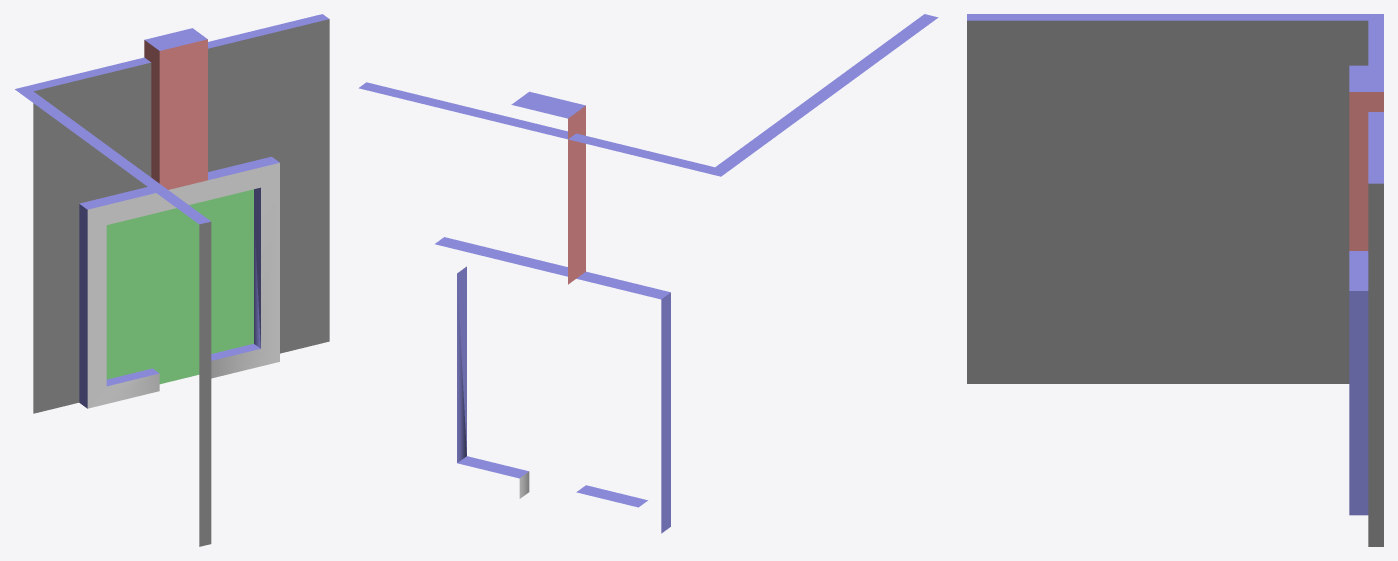
File: wall_deco_03.gltf
3 renders of one model, left to right at view 1: azimuth 30°, elevation 25°; view 2: azimuth 150°, elevation 25°; view 3: azimuth 270°, elevation 25°, orthographic. The views are drawn at different scales.
Parts seen in each view (by area): view 1: wall_deco_03; view 2: wall_deco_03; view 3: wall_deco_03.
Part boxes in pixels (box(x1,y1,x2,y2)): wall_deco_03: box(15, 14, 329, 546); wall_deco_03: box(358, 14, 938, 533); wall_deco_03: box(967, 14, 1383, 546).
Size of the model in its own units: 1.28 by 1.35 by 1.33.
